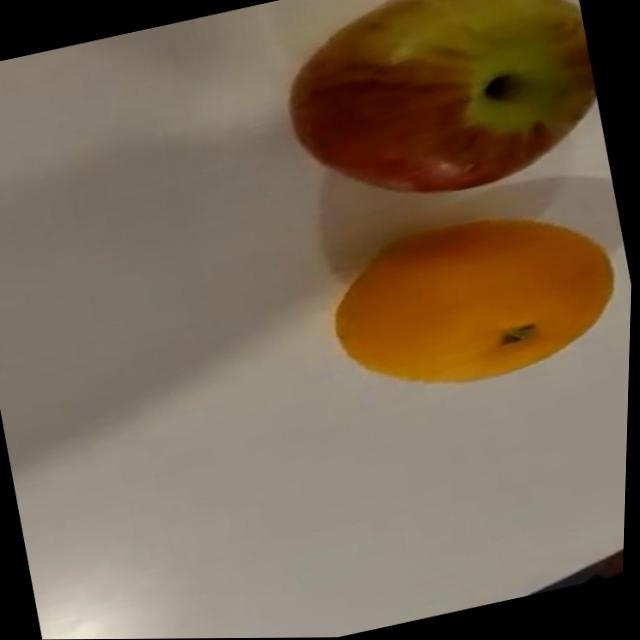Apple: (268, 0, 613, 223)
Orange: (319, 191, 634, 409)
